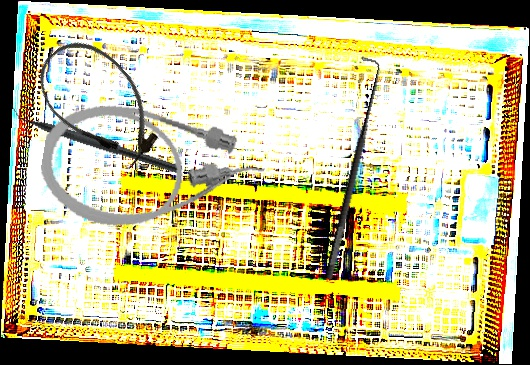Cannula: (33, 93, 272, 249), (23, 25, 176, 182)
Chopper: (5, 100, 187, 175)
Hook Surgical: (307, 55, 389, 281)
